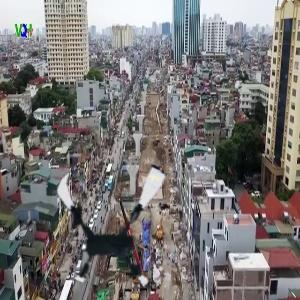drone: (46, 153, 185, 292)
